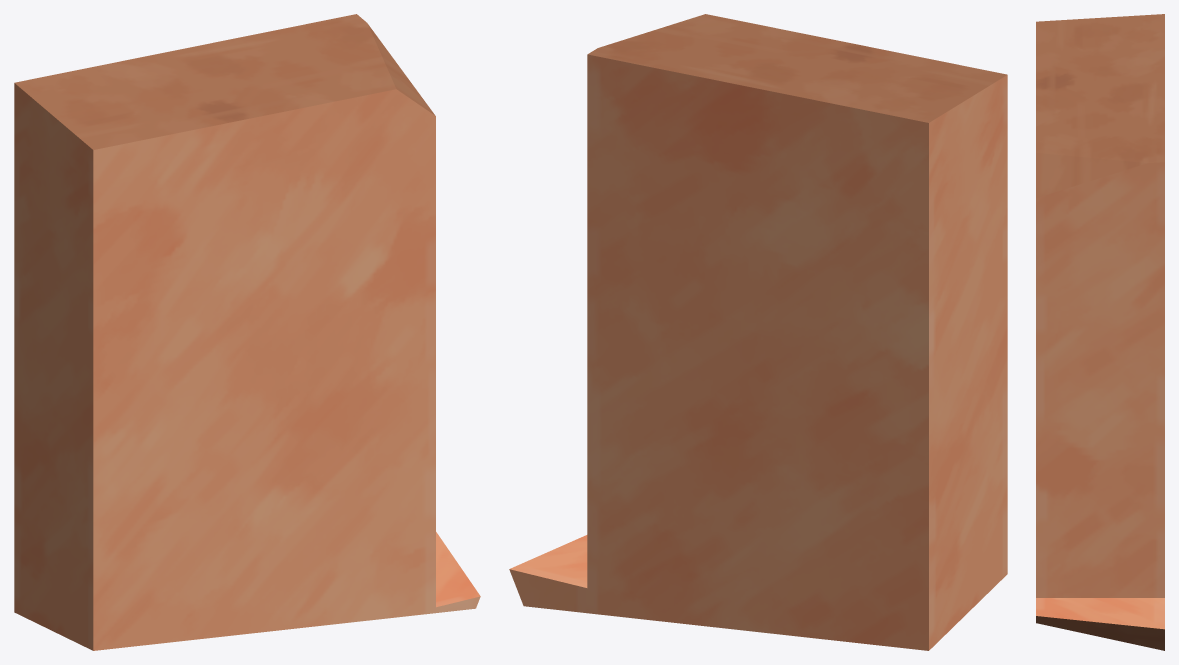
Rendered from wall_upper_window_s08.fbx.
The picture shows the model from 3 angles, left to right: view 1: azimuth 30°, elevation 25°; view 2: azimuth 150°, elevation 25°; view 3: azimuth 270°, elevation 25°; orthographic projection. The views are drawn at different scales.
Visible parts, largest first — view 1: wall_upper_window_s08; view 2: wall_upper_window_s08; view 3: wall_upper_window_s08.
Part boxes in pixels (bbox=[...]): wall_upper_window_s08: bbox=[14, 14, 480, 650]; wall_upper_window_s08: bbox=[509, 14, 1007, 650]; wall_upper_window_s08: bbox=[1036, 14, 1164, 650].
Size of the model in its own units: 3.07 by 4.07 by 1.
